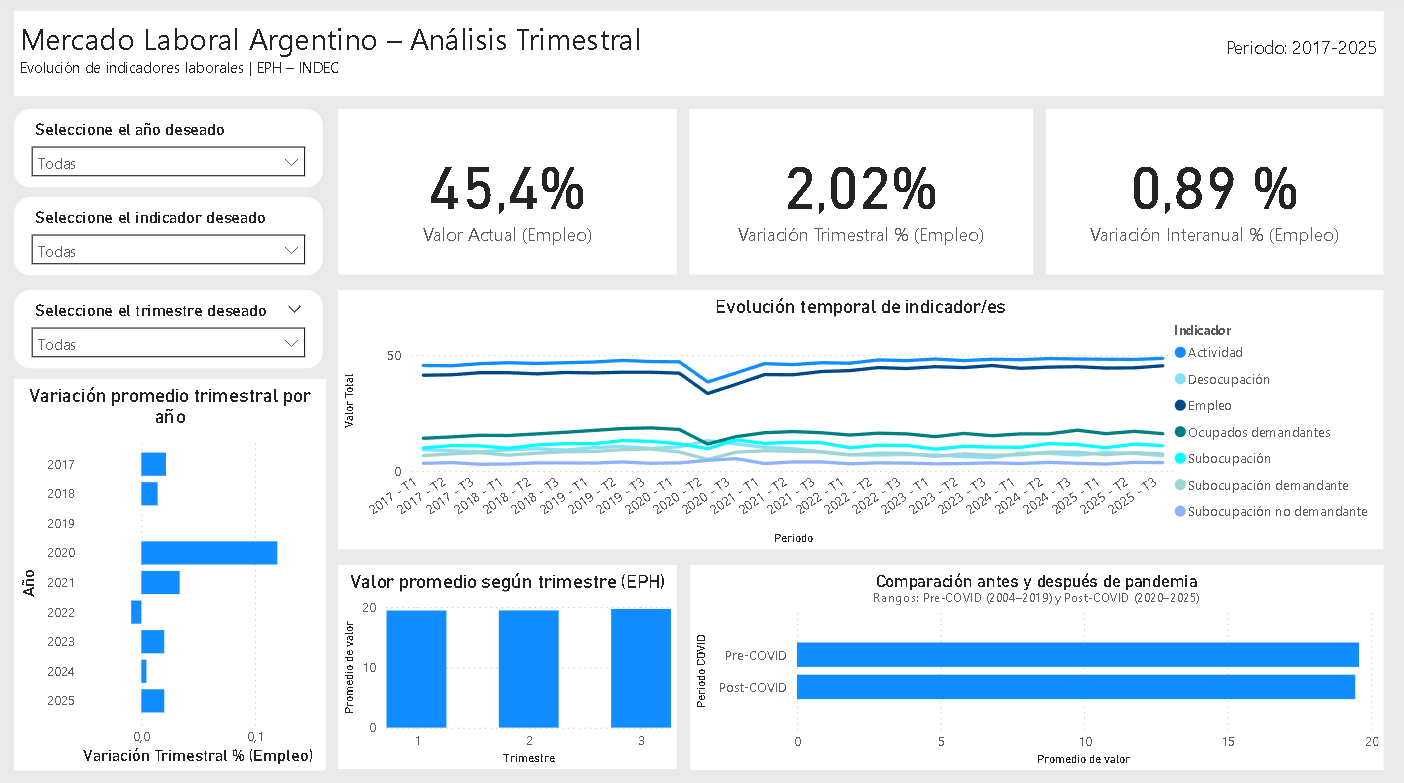

The page's visual inventory and layout, read from the dashboard file:
{"tool":"powerbi","page":{"name":"Página 1","canvas":[1280,720],"ordinal":0},"visuals":[{"type":"lineChart","title":"Evolución temporal de indicador/es","fields":{"Category":["anual.Periodo"],"Y":["anual.Valor Total"],"Series":["anual.Indicador_Limpio"]},"box":[310.9,267.8,948.2,235.1],"z":0},{"type":"slicer","fields":{"Values":["anual.Indicador_Limpio"]},"box":[17,182.9,279.5,70.5],"z":1000},{"type":"slicer","fields":{"Values":["anual.anio"]},"box":[17,103.2,279.5,70.5],"z":2000},{"type":"textbox","box":[17,14.4,612.6,77.1],"z":3000},{"type":"slicer","fields":{"Values":["anual.trimestre"]},"box":[17,267.8,279.5,70.5],"z":4000},{"type":"textbox","box":[629.6,14.4,629.6,77.1],"z":5000},{"type":"card","title":"Valor actual","fields":{"Values":["anual.Valor Actual"]},"box":[310.9,103.2,306.9,150.2],"z":6000},{"type":"clusteredColumnChart","title":"Valor promedio según trimestre (EPH)","fields":{"Category":["anual.trimestre"],"Y":["Avg(anual.valor)"]},"box":[310.9,517.2,306.9,185.5],"z":7000},{"type":"clusteredBarChart","title":"Variación promedio trimestral por año","fields":{"Category":["anual.anio"],"Y":["anual.Variación Trimestral %"]},"box":[17.2,348.2,282.9,354.6],"z":8000},{"type":"card","title":"Variación trimestral","fields":{"Values":["anual.Variación Trimestral %"]},"box":[629.6,103.2,312.2,150.2],"z":9000},{"type":"card","title":"Variación interanual","fields":{"Values":["anual.Variación Interanual % (Empleo)"]},"box":[953.5,103.2,305.6,150.2],"z":10000},{"type":"clusteredBarChart","title":"Comparación antes y después de pandemia","fields":{"Category":["anual.Periodo COVID"],"Y":["Avg(anual.valor)"]},"box":[630.1,517.2,628.6,186.1],"z":11000}]}

Visuals, with their boxes in screenshot pixels (x1, y1, x2, y2), scaled from the page's 1280x720 canvas onto the 1404x783 screenshot:
"Evolución temporal de indicador/es" lineChart: l=341, t=291, r=1381, b=547
slicer - anual.Indicador_Limpio: l=19, t=199, r=325, b=276
slicer - anual.anio: l=19, t=112, r=325, b=189
textbox: l=19, t=16, r=691, b=100
slicer - anual.trimestre: l=19, t=291, r=325, b=368
textbox: l=691, t=16, r=1381, b=100
"Valor actual" card: l=341, t=112, r=678, b=276
"Valor promedio según trimestre (EPH)" clusteredColumnChart: l=341, t=562, r=678, b=764
"Variación promedio trimestral por año" clusteredBarChart: l=19, t=379, r=329, b=764
"Variación trimestral" card: l=691, t=112, r=1033, b=276
"Variación interanual" card: l=1046, t=112, r=1381, b=276
"Comparación antes y después de pandemia" clusteredBarChart: l=691, t=562, r=1381, b=765
